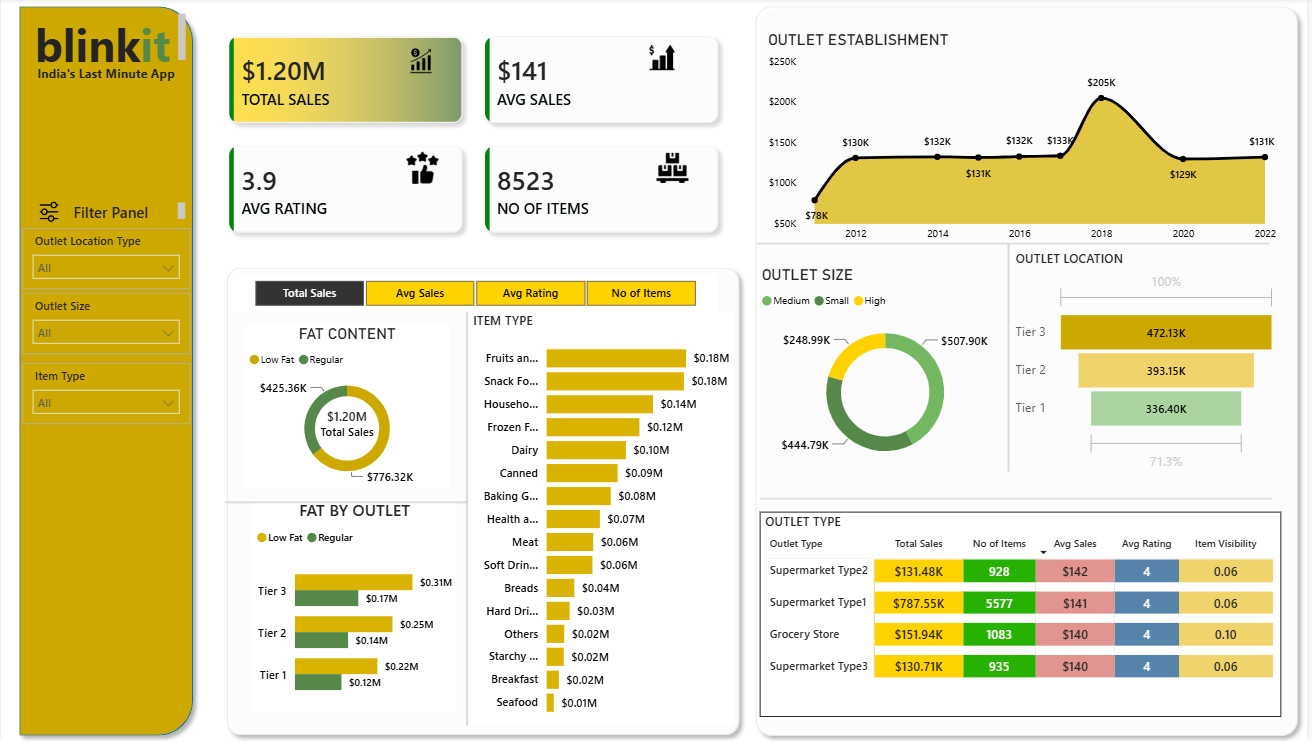

Layout of this report page (visuals, bound fields, positions):
{"tool":"powerbi","page":{"name":"Page 1","canvas":[1400,800],"ordinal":0},"visuals":[{"type":"shape","box":[10.5,0,204.1,800],"z":0},{"type":"textbox","box":[22.5,12,180.1,73.5],"z":1000},{"type":"textbox","box":[22.5,67.5,180.1,36],"z":2000},{"type":"cardVisual","fields":{"Data":["BlinkIT Grocery Data.Total Sales","BlinkIT Grocery Data.Avg Sales","BlinkIT Grocery Data.Avg Rating","BlinkIT Grocery Data.No of Items"]},"box":[216.1,12,583.8,268.7],"z":3000},{"type":"image","box":[420.2,54,61.5,27],"z":4000},{"type":"image","box":[669.4,49.5,79.5,28.5],"z":5000},{"type":"image","box":[423.2,165.1,57,34.5],"z":6000},{"type":"image","box":[691.9,165.1,57,34.5],"z":7000},{"type":"shape","box":[232.6,280.7,567.3,519.3],"z":8000},{"type":"donutChart","title":"FAT CONTENT","fields":{"Y":["BlinkIT Grocery Data.Total Sales"],"Category":["BlinkIT Grocery Data.Item Fat Content"]},"box":[261.4,349.9,219.8,176.9],"z":9000},{"type":"slicer","fields":{"Values":["Metrics.Metrics"]},"box":[246.1,295.7,522.3,40.5],"z":10000},{"type":"cardVisual","fields":{"Data":["BlinkIT Grocery Data.Total Sales"]},"box":[309.7,424.9,123.3,63],"z":11000},{"type":"clusteredBarChart","title":"FAT BY OUTLET","fields":{"Y":["BlinkIT Grocery Data.Total Sales"],"Category":["BlinkIT Grocery Data.Outlet Location Type"],"Series":["BlinkIT Grocery Data.Item Fat Content"]},"box":[269.4,537.5,219.8,229.2],"z":12000},{"type":"shape","box":[240.1,534.3,259.6,12],"z":13000},{"type":"shape","box":[489.3,336.2,21,444.3],"z":14000},{"type":"barChart","title":"ITEM TYPE","fields":{"Y":["BlinkIT Grocery Data.Total Sales"],"Category":["BlinkIT Grocery Data.Item Type"]},"box":[501.3,336.2,285.2,444.3],"z":15000},{"type":"shape","box":[800.3,0,599.2,800.3],"z":16000},{"type":"lineChart","title":"OUTLET ESTABLISHMENT","fields":{"Category":["BlinkIT Grocery Data.Outlet Establishment Year"],"Y":["BlinkIT Grocery Data.Total Sales"]},"box":[817.7,34.9,555,234.6],"z":17000},{"type":"shape","box":[811,257.4,549.6,12.1],"z":18000},{"type":"donutChart","title":"OUTLET SIZE","fields":{"Y":["BlinkIT Grocery Data.Total Sales"],"Category":["BlinkIT Grocery Data.Outlet Size"]},"box":[811,286.9,274.8,225.2],"z":19000},{"type":"shape","box":[1075.1,264.1,10.7,244],"z":20000},{"type":"funnel","title":"OUTLET LOCATION","fields":{"Category":["BlinkIT Grocery Data.Outlet Location Type"],"Y":["Sum(BlinkIT Grocery Data.Sales)"]},"box":[1083.1,269.4,289.5,242.6],"z":21000},{"type":"shape","box":[813.7,530.8,549.6,12.1],"z":22000},{"type":"pivotTable","title":"OUTLET TYPE","fields":{"Rows":["BlinkIT Grocery Data.Outlet Type"],"Values":["BlinkIT Grocery Data.Total Sales","BlinkIT Grocery Data.No of Items","BlinkIT Grocery Data.Avg Sales","BlinkIT Grocery Data.Avg Rating","Avg(BlinkIT Grocery Data.Item Visibility)"]},"box":[813.7,550.9,559,219.8],"z":23000},{"type":"slicer","fields":{"Values":["BlinkIT Grocery Data.Outlet Location Type"]},"box":[22.8,246.7,179.6,65.7],"z":24000},{"type":"slicer","fields":{"Values":["BlinkIT Grocery Data.Outlet Size"]},"box":[22.8,316.4,179.6,65.7],"z":25000},{"type":"slicer","fields":{"Values":["BlinkIT Grocery Data.Item Type"]},"box":[22.8,391.4,179.6,65.7],"z":26000},{"type":"textbox","box":[41.6,214.5,160.9,29.5],"z":27000},{"type":"image","box":[41.6,214.5,20.1,29.5],"z":28000}]}

Visuals, with their boxes in screenshot pixels (x1, y1, x2, y2), scaled from the page's 1400x800 canvas onto the 1312x741 screenshot:
shape: <box>10,0,201,740</box>
textbox: <box>21,11,190,79</box>
textbox: <box>21,63,190,96</box>
cardVisual - BlinkIT Grocery Data.Total Sales x BlinkIT Grocery Data.Avg Sales: <box>203,11,750,260</box>
image: <box>394,50,451,75</box>
image: <box>627,46,702,72</box>
image: <box>397,153,450,185</box>
image: <box>648,153,702,185</box>
shape: <box>218,260,750,740</box>
"FAT CONTENT" donutChart: <box>245,324,451,488</box>
slicer - Metrics.Metrics: <box>231,274,720,311</box>
cardVisual - BlinkIT Grocery Data.Total Sales: <box>290,394,406,452</box>
"FAT BY OUTLET" clusteredBarChart: <box>252,498,458,710</box>
shape: <box>225,495,468,506</box>
shape: <box>459,311,478,723</box>
"ITEM TYPE" barChart: <box>470,311,737,723</box>
shape: <box>750,0,1311,740</box>
"OUTLET ESTABLISHMENT" lineChart: <box>766,32,1286,250</box>
shape: <box>760,238,1275,250</box>
"OUTLET SIZE" donutChart: <box>760,266,1018,474</box>
shape: <box>1008,245,1018,471</box>
"OUTLET LOCATION" funnel: <box>1015,250,1286,474</box>
shape: <box>763,492,1278,503</box>
"OUTLET TYPE" pivotTable: <box>763,510,1286,714</box>
slicer - BlinkIT Grocery Data.Outlet Location Type: <box>21,229,190,289</box>
slicer - BlinkIT Grocery Data.Outlet Size: <box>21,293,190,354</box>
slicer - BlinkIT Grocery Data.Item Type: <box>21,363,190,423</box>
textbox: <box>39,199,190,226</box>
image: <box>39,199,58,226</box>
